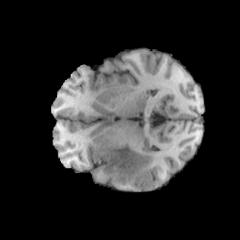glioma: (101, 145, 154, 184)
